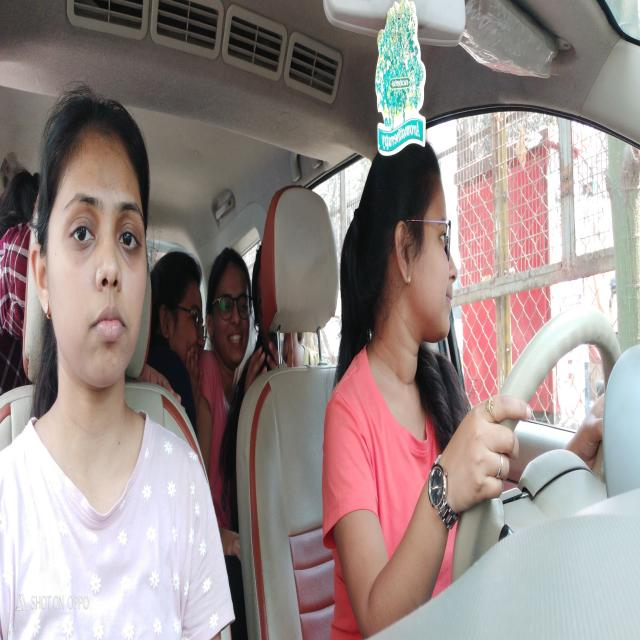LeftRight: (364, 143, 457, 357)
person: (29, 91, 154, 388), (155, 245, 206, 378), (209, 242, 252, 372), (253, 234, 263, 362)
